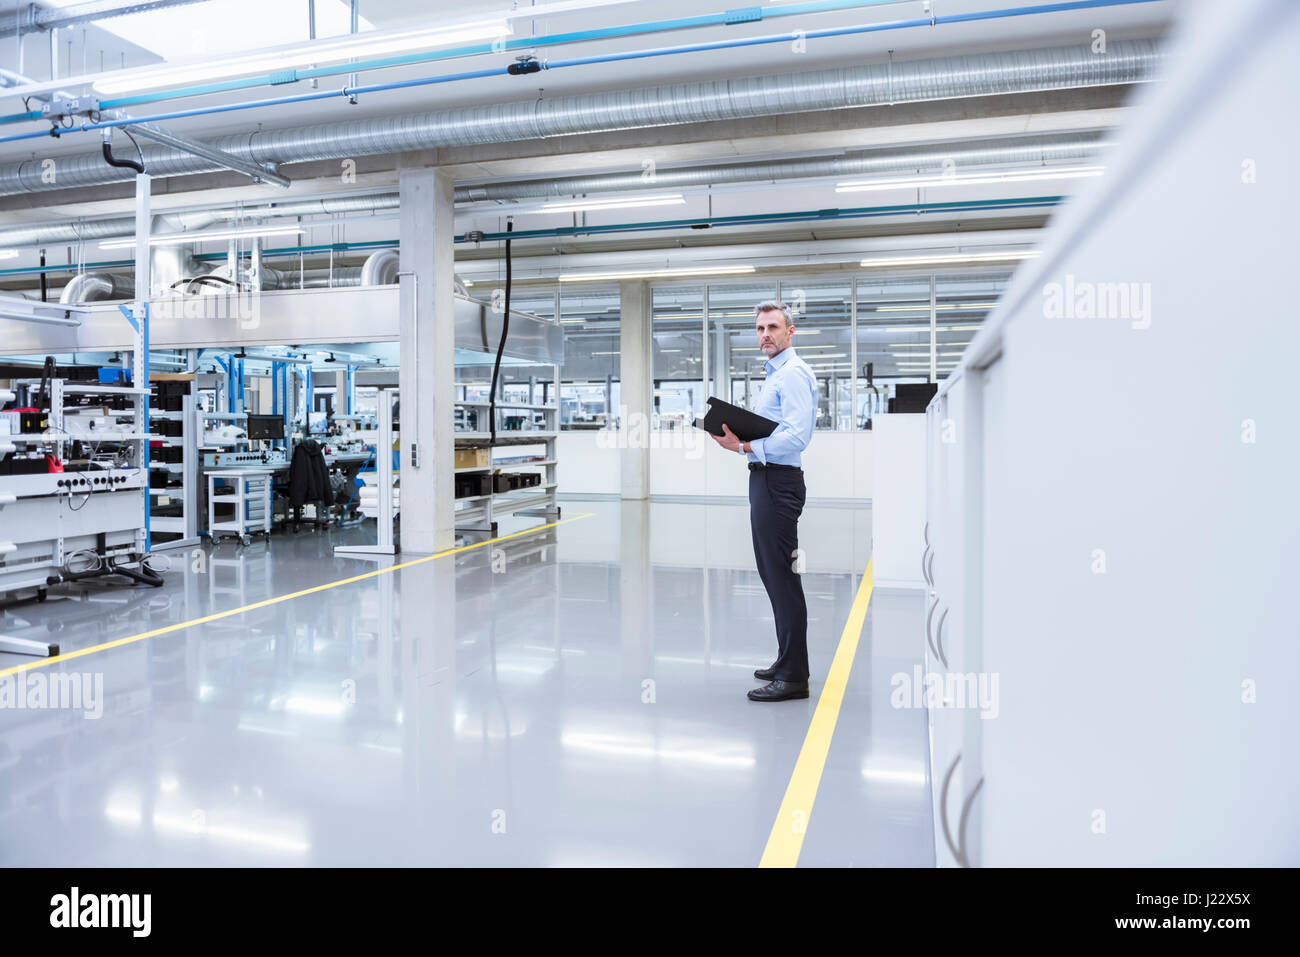person: (713, 304, 816, 698)
